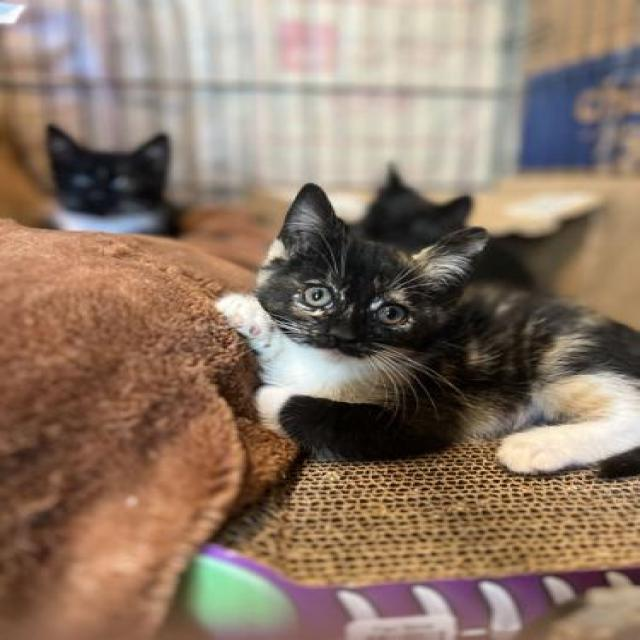cat: (217, 185, 638, 473), (47, 125, 177, 234), (353, 165, 472, 249)
